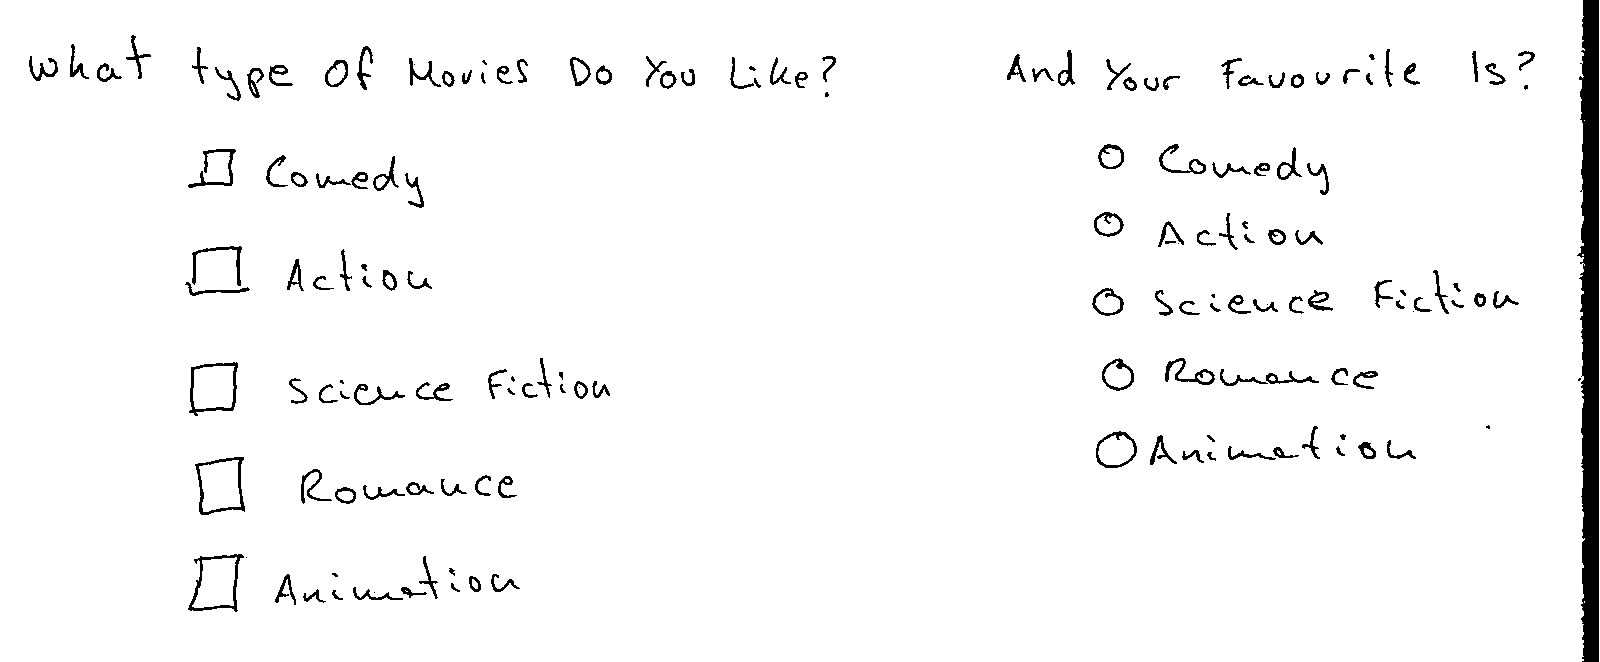Radio Button: (1090, 416, 1423, 475), (1088, 130, 1333, 203)
Select: (182, 356, 618, 420), (184, 548, 527, 620), (188, 448, 523, 518), (180, 232, 445, 308), (180, 144, 429, 214)
